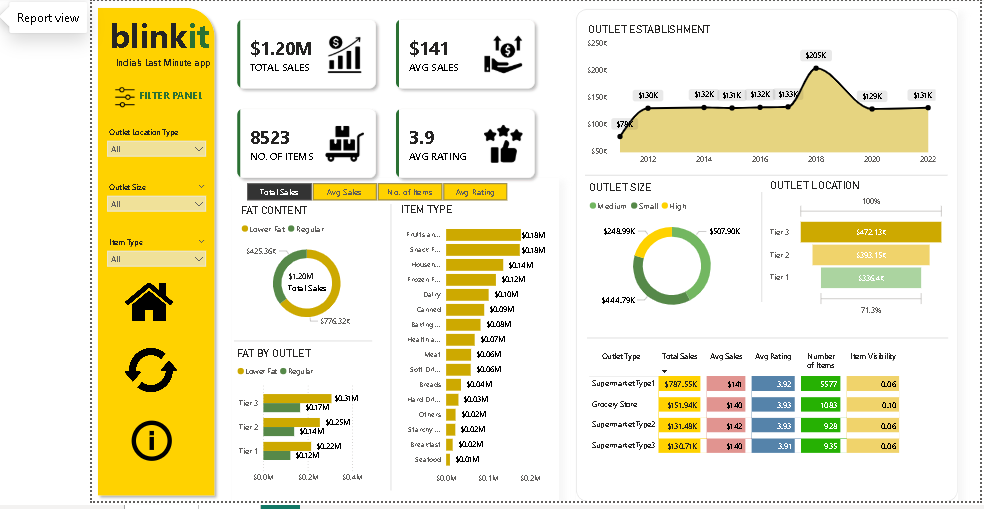

The dashboard page shown, as its layout file describes it:
{"tool":"powerbi","page":{"name":"Home","canvas":[1420,800],"ordinal":0},"visuals":[{"type":"shape","box":[0,1.8,205.1,798.8],"z":0},{"type":"textbox","box":[14.4,12.6,188.9,106.1],"z":1000},{"type":"image","box":[35,135,35,38],"z":2000},{"type":"textbox","box":[70,135,122.3,38],"z":3000},{"type":"cardVisual","fields":{"Data":["BlinkIT Grocery Data.Total Sales","BlinkIT Grocery Data.Avg Sales","BlinkIT Grocery Data.No. of Items","BlinkIT Grocery Data.Avg Rating"]},"box":[203.3,0,534.3,313.1],"z":4000},{"type":"areaChart","title":"OUTLET ESTABLISHMENT","fields":{"Category":["BlinkIT Grocery Data.Outlet Establishment Year"],"Y":["BlinkIT Grocery Data.Total Sales"]},"box":[789,35,566,235],"z":5000},{"type":"shape","box":[789,270,580,17],"z":6000},{"type":"donutChart","title":"OUTLET SIZE","fields":{"Category":["BlinkIT Grocery Data.Outlet Size"],"Y":["BlinkIT Grocery Data.Total Sales"]},"box":[789.8,288,275,224],"z":7000},{"type":"shape","box":[1064,305,15,176],"z":8000},{"type":"funnel","title":"OUTLET LOCATION","fields":{"Category":["BlinkIT Grocery Data.Outlet Location Type"],"Y":["Sum(BlinkIT Grocery Data.Sales)"]},"box":[1080,284,289,224],"z":9000},{"type":"shape","box":[792.2,526.7,577.8,25.6],"z":10000},{"type":"pivotTable","fields":{"Rows":["BlinkIT Grocery Data.Outlet Type"],"Values":["BlinkIT Grocery Data.Total Sales","BlinkIT Grocery Data.Avg Sales","BlinkIT Grocery Data.Avg Rating","BlinkIT Grocery Data.No. of Items","Avg(BlinkIT Grocery Data.Item Visibility)"]},"box":[790,552.5,580,226.2],"z":11000},{"type":"shape","box":[774,12,611,788],"z":12000},{"type":"slicer","fields":{"Values":["Metrics.Metrics"]},"box":[223,284,466,39],"z":13000},{"type":"donutChart","title":"FAT CONTENT","fields":{"Y":["BlinkIT Grocery Data.Total Sales"],"Category":["BlinkIT Grocery Data.Item Fat Content"]},"box":[233,325,220,206],"z":14000},{"type":"cardVisual","fields":{"Data":["BlinkIT Grocery Data.Total Sales"]},"box":[284.2,396.5,142.1,103.5],"z":15000},{"type":"shape","box":[227,534,221,19],"z":16000},{"type":"shape","box":[467.9,324.7,22.3,458.4],"z":17000},{"type":"barChart","title":"ITEM TYPE","fields":{"Y":["BlinkIT Grocery Data.Total Sales"],"Category":["BlinkIT Grocery Data.Item Type"]},"box":[489,323,258,458],"z":18000},{"type":"clusteredBarChart","title":"FAT BY OUTLET","fields":{"Y":["BlinkIT Grocery Data.Total Sales"],"Category":["BlinkIT Grocery Data.Outlet Location Type"],"Series":["BlinkIT Grocery Data.Item Fat Content"]},"box":[227.1,552.9,221.4,225.7],"z":19000},{"type":"shape","box":[223.3,283.3,523.3,516.7],"z":20000},{"type":"slicer","fields":{"Values":["BlinkIT Grocery Data.Outlet Size"]},"box":[14,284.8,178.2,73.4],"z":21000},{"type":"slicer","fields":{"Values":["BlinkIT Grocery Data.Item Type"]},"box":[14,372.2,178.2,73],"z":22000},{"type":"slicer","fields":{"Values":["BlinkIT Grocery Data.Outlet Location Type"]},"box":[14,197.5,178.2,73.4],"z":23000},{"type":"actionButton","box":[53.3,448.3,76.7,66.7],"z":24000},{"type":"actionButton","box":[53.3,551.7,83.3,76.7],"z":25000},{"type":"actionButton","box":[58.3,665,83,76],"z":26000}]}

Visuals, with their boxes on the page's 1420x800 design canvas (x1, y1, x2, y2). These are canvas units, not pixel positions in the 984x509 screenshot, which may show the page scaled, cropped or inside an application window:
shape: x1=0 y1=2 x2=205 y2=801
textbox: x1=14 y1=13 x2=203 y2=119
image: x1=35 y1=135 x2=70 y2=173
textbox: x1=70 y1=135 x2=192 y2=173
cardVisual - BlinkIT Grocery Data.Total Sales x BlinkIT Grocery Data.Avg Sales: x1=203 y1=0 x2=738 y2=313
"OUTLET ESTABLISHMENT" areaChart: x1=789 y1=35 x2=1355 y2=270
shape: x1=789 y1=270 x2=1369 y2=287
"OUTLET SIZE" donutChart: x1=790 y1=288 x2=1065 y2=512
shape: x1=1064 y1=305 x2=1079 y2=481
"OUTLET LOCATION" funnel: x1=1080 y1=284 x2=1369 y2=508
shape: x1=792 y1=527 x2=1370 y2=552
pivotTable - BlinkIT Grocery Data.Outlet Type x BlinkIT Grocery Data.Total Sales: x1=790 y1=552 x2=1370 y2=779
shape: x1=774 y1=12 x2=1385 y2=800
slicer - Metrics.Metrics: x1=223 y1=284 x2=689 y2=323
"FAT CONTENT" donutChart: x1=233 y1=325 x2=453 y2=531
cardVisual - BlinkIT Grocery Data.Total Sales: x1=284 y1=396 x2=426 y2=500
shape: x1=227 y1=534 x2=448 y2=553
shape: x1=468 y1=325 x2=490 y2=783
"ITEM TYPE" barChart: x1=489 y1=323 x2=747 y2=781
"FAT BY OUTLET" clusteredBarChart: x1=227 y1=553 x2=448 y2=779
shape: x1=223 y1=283 x2=747 y2=800
slicer - BlinkIT Grocery Data.Outlet Size: x1=14 y1=285 x2=192 y2=358
slicer - BlinkIT Grocery Data.Item Type: x1=14 y1=372 x2=192 y2=445
slicer - BlinkIT Grocery Data.Outlet Location Type: x1=14 y1=198 x2=192 y2=271
actionButton: x1=53 y1=448 x2=130 y2=515
actionButton: x1=53 y1=552 x2=137 y2=628
actionButton: x1=58 y1=665 x2=141 y2=741
